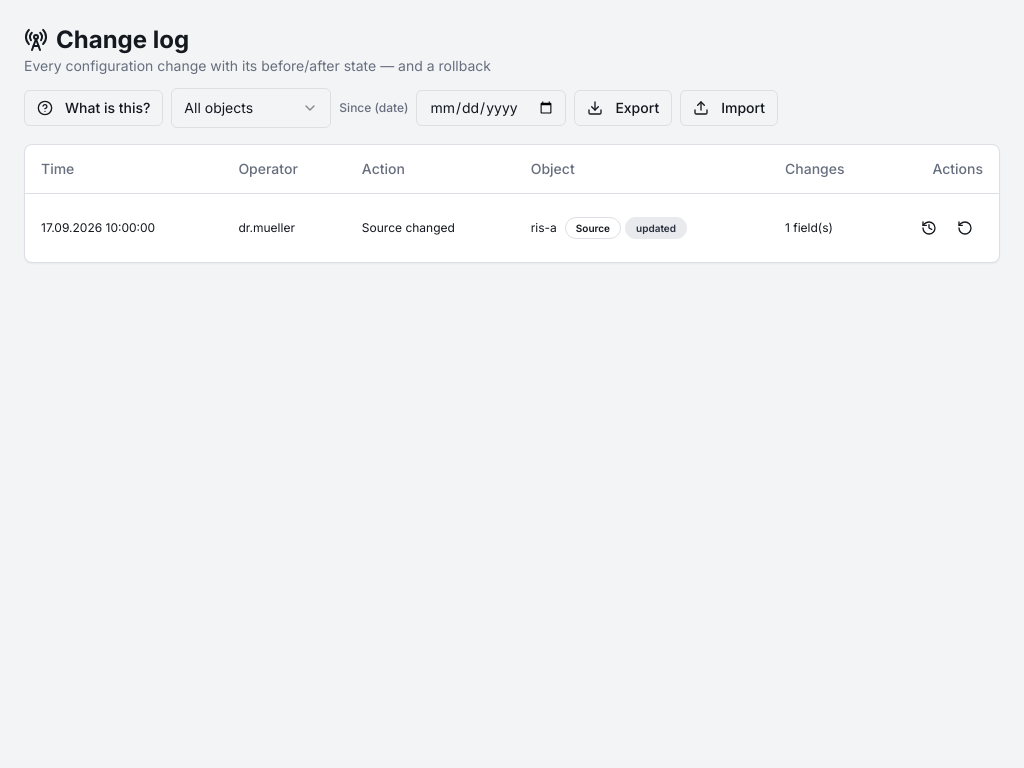
Test case: AuditPage › shows the before/after diff of a change
The image size is (1024, 768).
Expected: the text "Source changed" is shown, [346,193,515,262]
Click the button named "show changes".
click(929, 228)  # box [911,210,947,246]
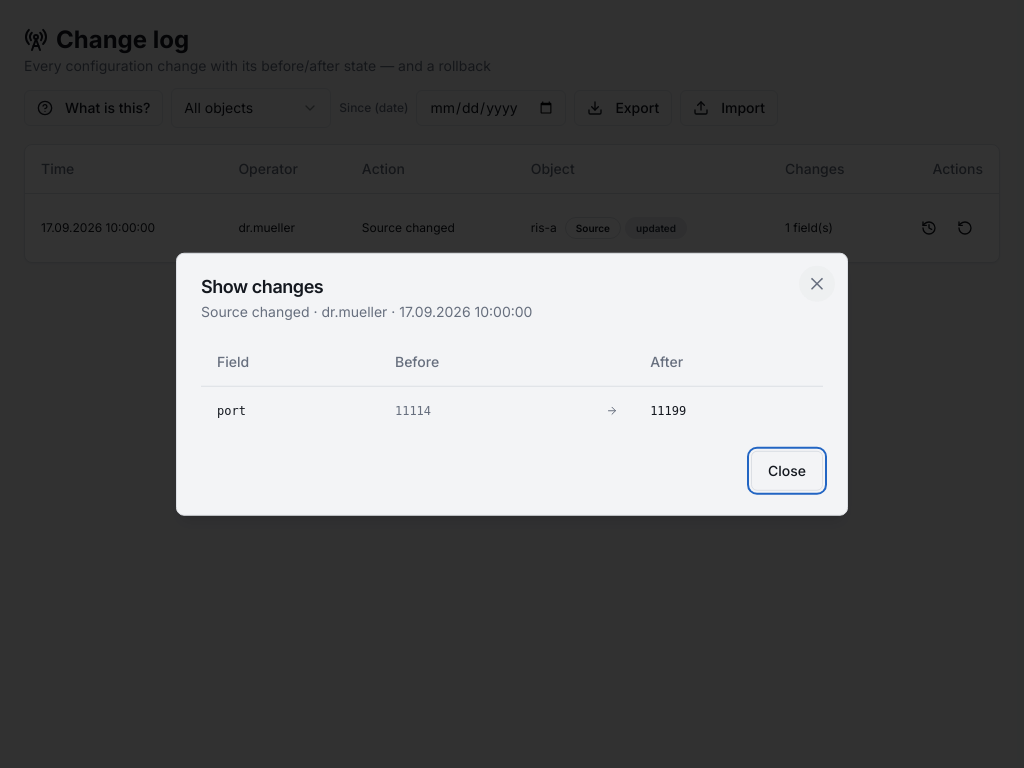
Expected: the text "port" is shown, [201,386,379,434]
Expected: the text "11114" is shown, [379,386,590,434]
Expected: the text "11199" is shown, [634,386,823,434]
